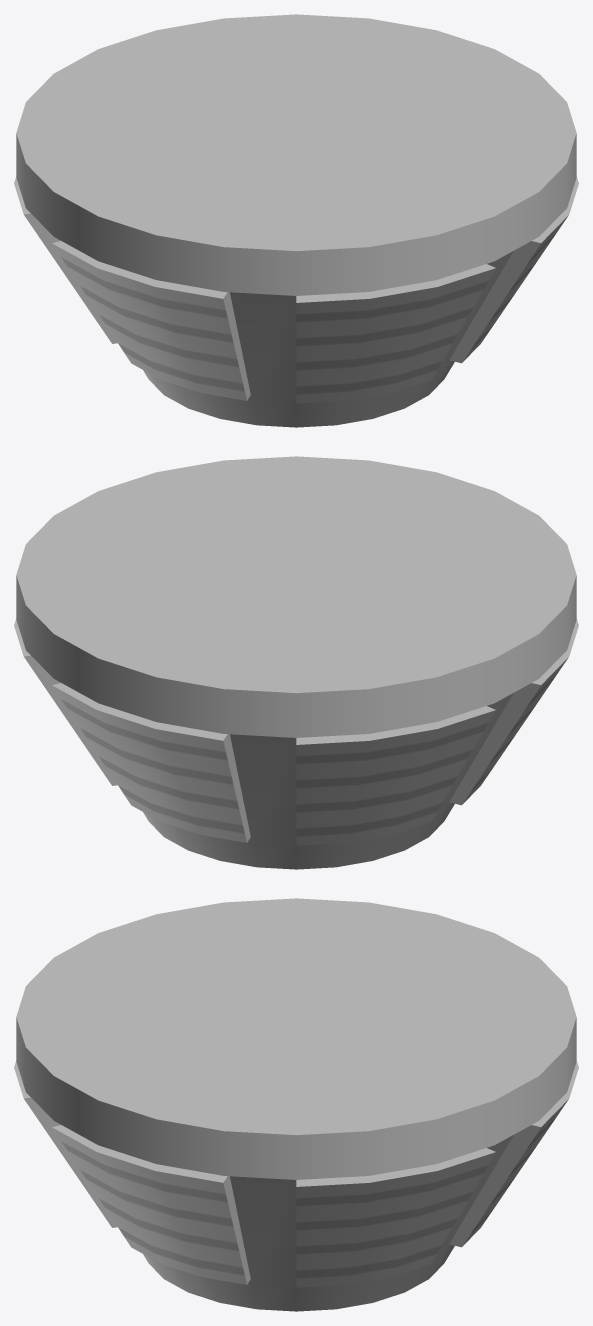
The model's file is iss_cupola.fbx.
3 views of the same model, one above another, from view 1: azimuth 30°, elevation 25°; view 2: azimuth 150°, elevation 25°; view 3: azimuth 270°, elevation 25° (orthographic).
Visible parts, largest first — view 1: cupola; view 2: cupola; view 3: cupola.
Boxes of the visible parts, x1,y1,x2,y2 form: cupola: (14, 14, 578, 427); cupola: (14, 456, 578, 869); cupola: (14, 898, 578, 1311).
Size of the model in its own units: 2.57 by 1.18 by 2.57.
